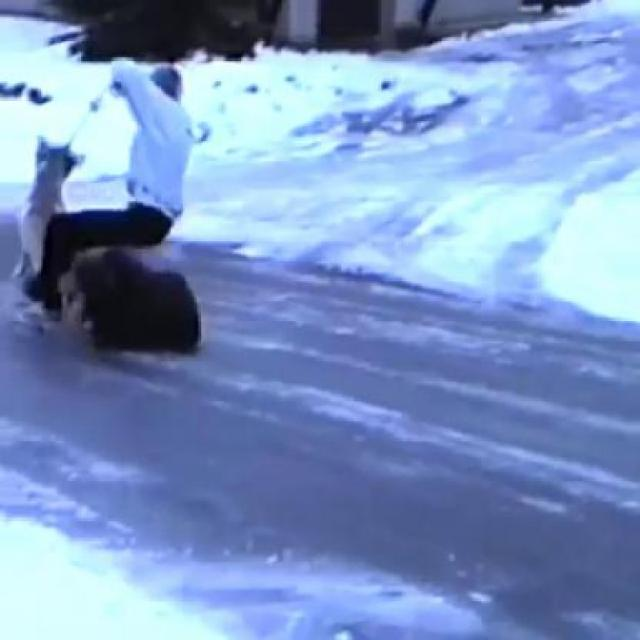fall: (11, 43, 191, 315)
